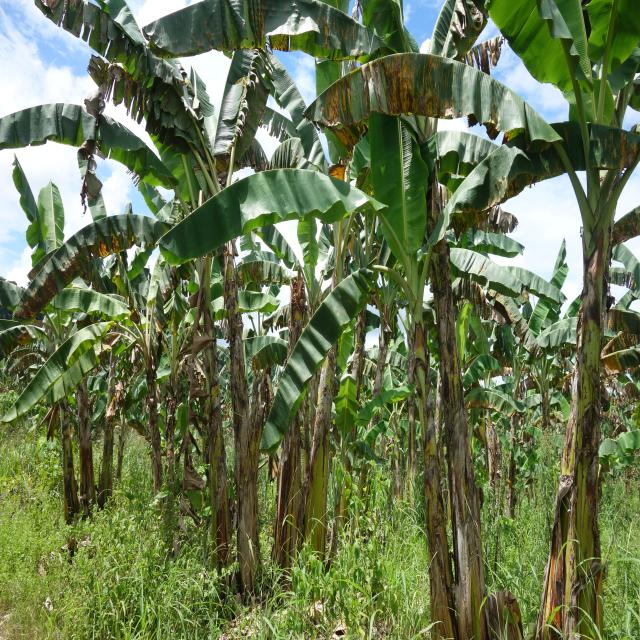Banana-plant: (407, 105, 487, 640), (541, 188, 626, 640), (297, 215, 360, 592), (219, 161, 263, 607), (188, 201, 228, 595), (405, 302, 449, 640), (46, 332, 74, 540), (139, 335, 164, 528), (78, 311, 98, 528)
